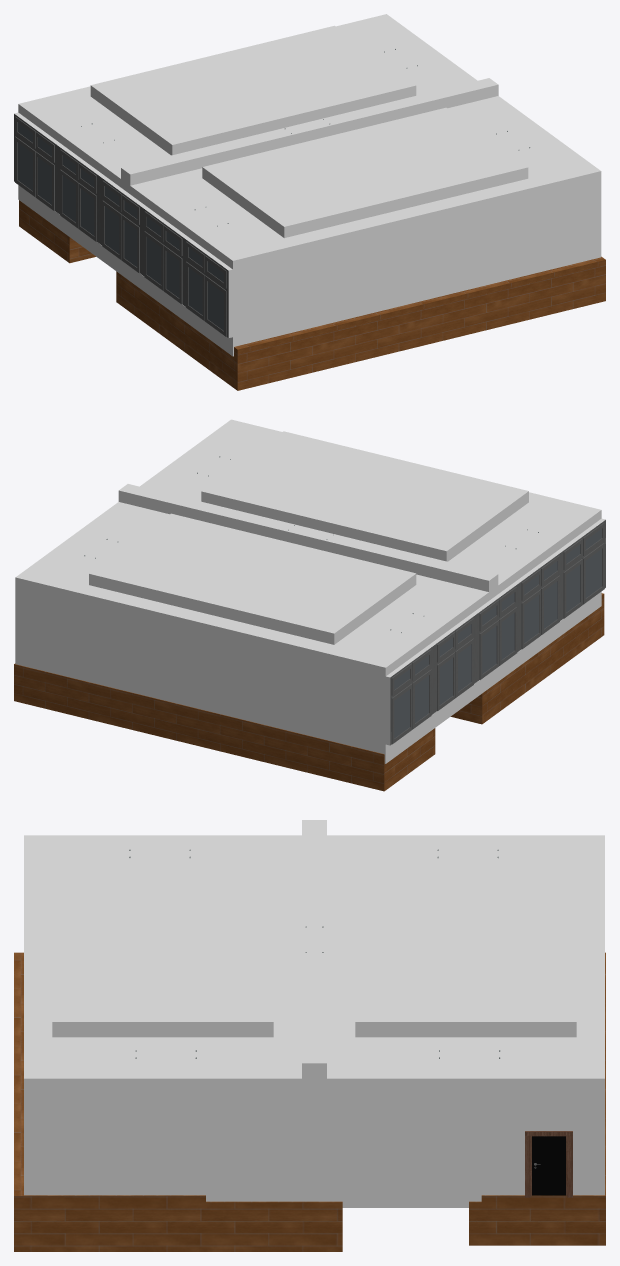
File: Room_ready.fbx
The picture shows the model from 3 angles, top to bottom: view 1: azimuth 30°, elevation 25°; view 2: azimuth 150°, elevation 25°; view 3: azimuth 270°, elevation 25°; orthographic projection. The views are drawn at different scales.
Visible parts, largest first — view 1: Walls, Floor, Window_Frame; view 2: Walls, Floor, Window_Frame; view 3: Walls, Floor, Door entry.
Part boxes in pixels (box(x1,y1,x2,y2)): Walls: box(14, 14, 601, 356); Floor: box(19, 200, 605, 390); Window_Frame: box(14, 114, 228, 337); Walls: box(15, 419, 605, 763); Floor: box(14, 593, 604, 791); Window_Frame: box(390, 520, 605, 745); Walls: box(24, 820, 604, 1207); Floor: box(14, 952, 605, 1251); Door entry: box(525, 1131, 572, 1197).
Bounding box in the file's own units: 2139 × 760 × 2162.
